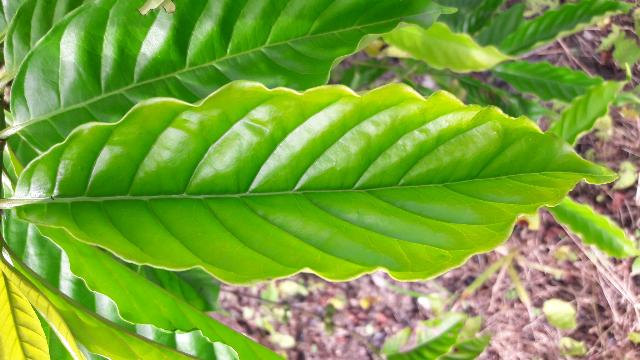healthy: (12, 81, 619, 287)
